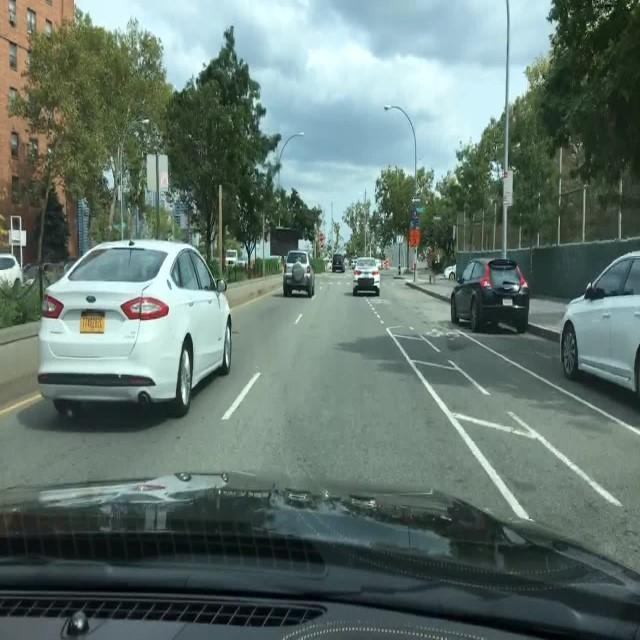normal: (38, 236, 236, 416), (561, 252, 640, 399), (450, 257, 532, 332), (280, 251, 314, 298), (351, 259, 382, 297), (0, 256, 23, 291), (226, 247, 249, 268)
